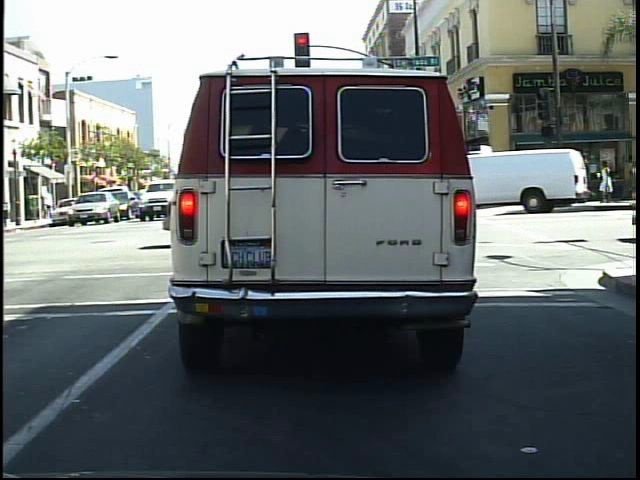person: (573, 143, 597, 210), (538, 153, 561, 205), (596, 155, 620, 204), (515, 154, 537, 207)
